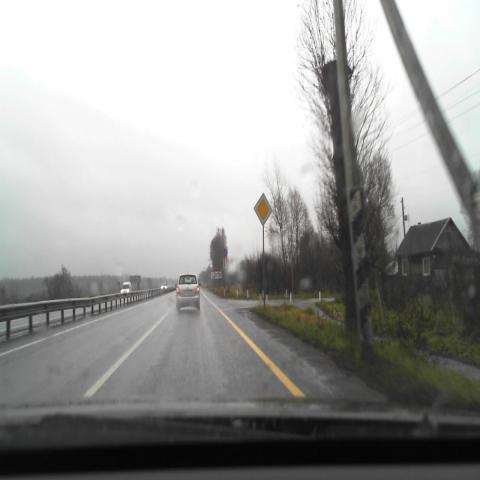2_1: (254, 193, 272, 226)
